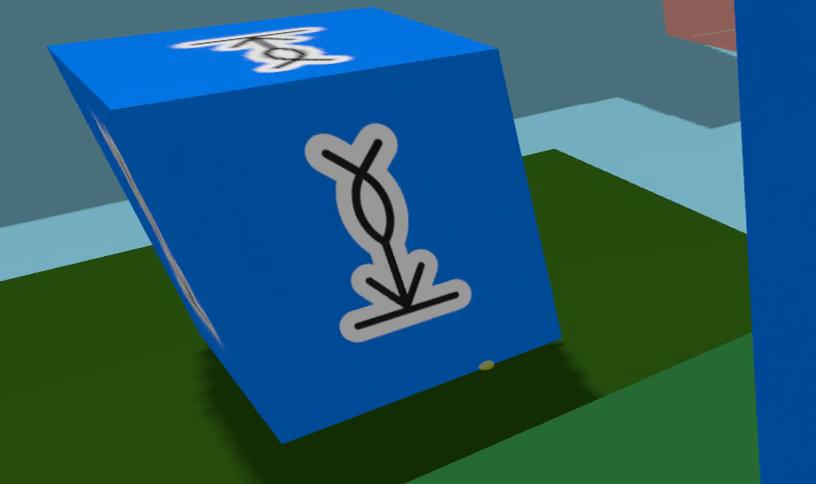KFS_REAL: (50, 8, 559, 441), (306, 123, 471, 342), (173, 27, 351, 73)
